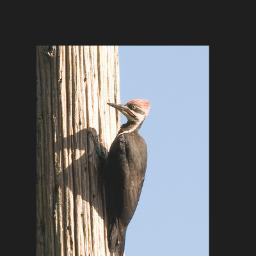Woodpecker: (88, 99, 152, 256)
